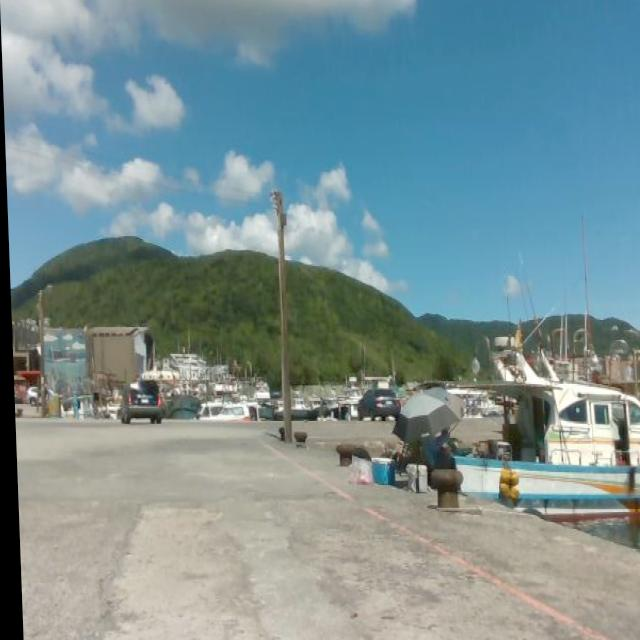pollute: (342, 454, 375, 488)
